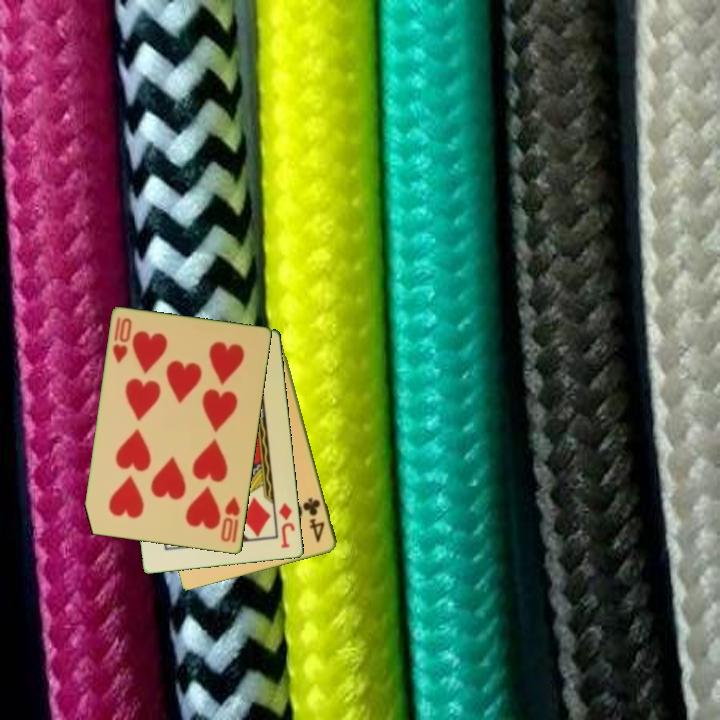10h: (109, 314, 135, 367), (217, 494, 243, 546)
4c: (300, 494, 328, 545)
Jd: (275, 500, 298, 551)
